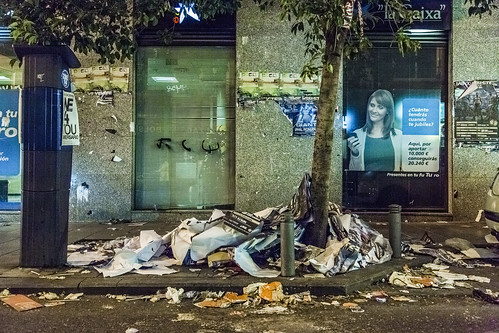trash: (61, 196, 499, 333)
tree: (270, 1, 407, 249)
window: (341, 39, 449, 213), (136, 44, 229, 207)
